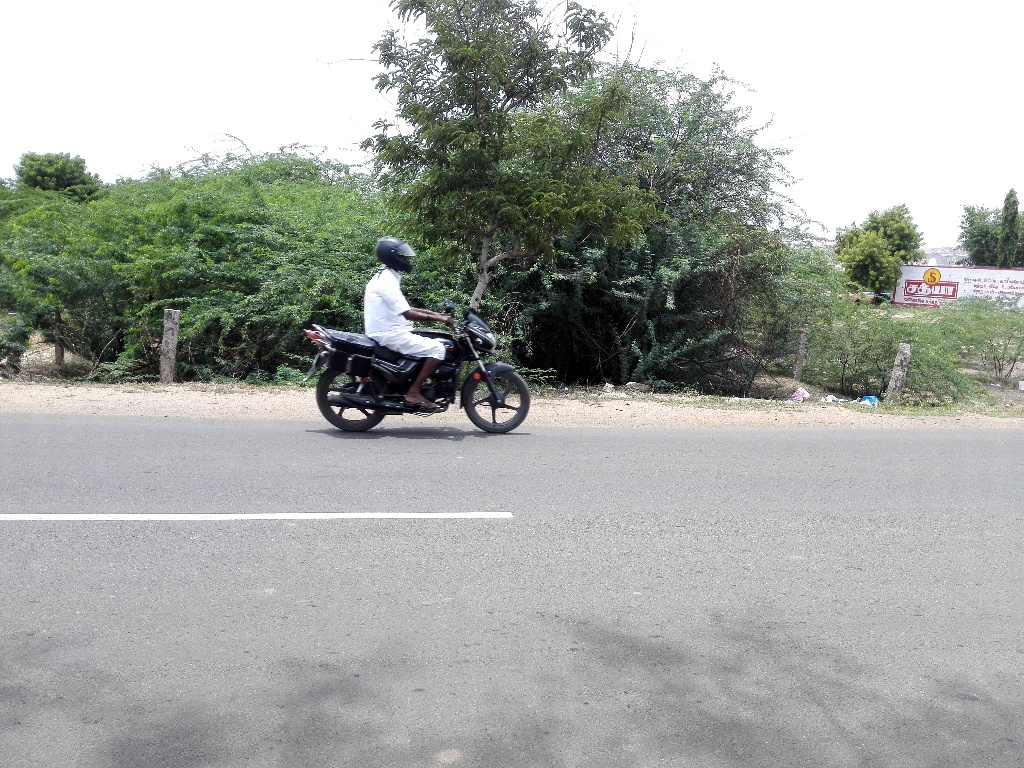biker: (287, 203, 551, 455)
helmet: (370, 223, 430, 292)
